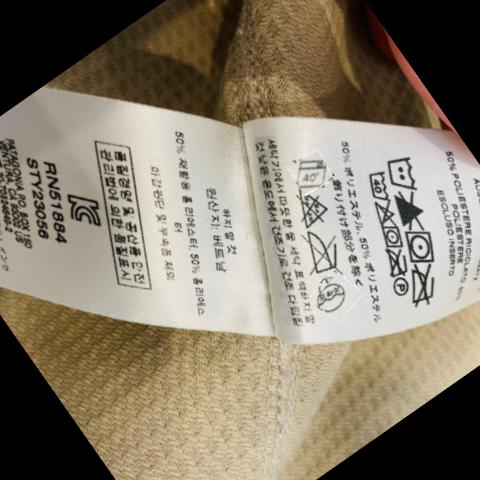40C: (295, 157, 329, 190), (387, 157, 418, 190), (368, 168, 392, 203)
DN_bleach: (298, 192, 329, 229), (395, 192, 426, 227), (376, 200, 395, 226)
DN_iron: (308, 229, 340, 273), (412, 266, 437, 307), (387, 248, 407, 278)
dry_clean: (317, 279, 348, 317)
dry_clean_any_solvent_except_trichloroethylene: (393, 276, 409, 300)
tumble_dry_low: (408, 228, 433, 265), (382, 224, 402, 248)
